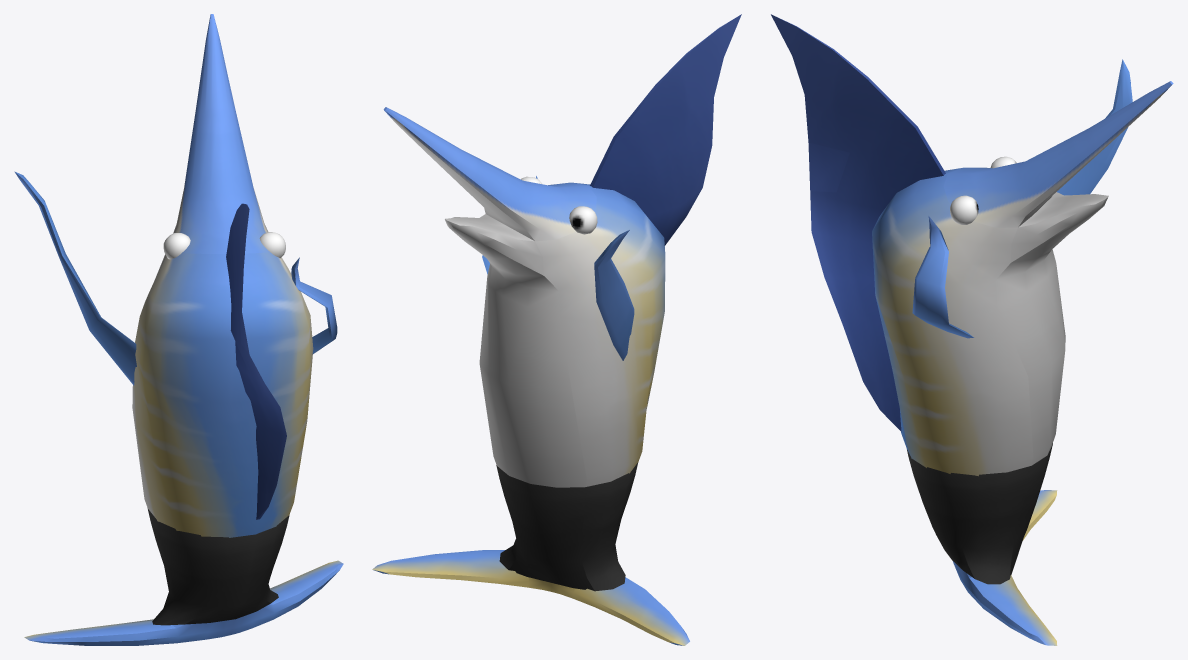
The model's file is kajiki_attack_08.fbx.
The picture shows the model from 3 angles, left to right: view 1: azimuth 30°, elevation 25°; view 2: azimuth 150°, elevation 25°; view 3: azimuth 270°, elevation 25°; orthographic projection.
Visible parts, largest first — view 1: A_08; view 2: A_08; view 3: A_08.
Boxes of the visible parts, box(x1,y1,x2,y2) form: A_08: box(14, 14, 343, 645); A_08: box(372, 14, 741, 645); A_08: box(771, 14, 1173, 645).
Size of the model in its own units: 1.46 by 2.33 by 1.6.
1 material, 1 textured.
